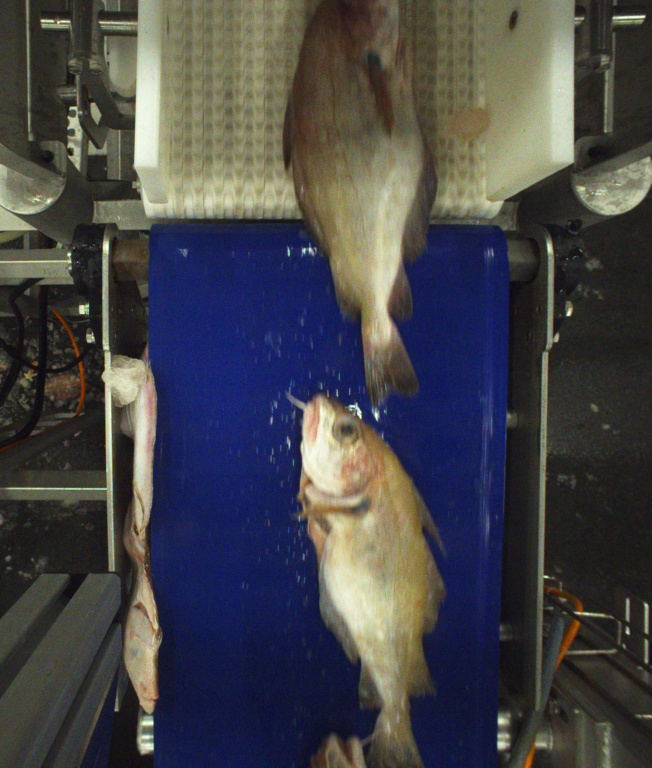BIB: (294, 727, 365, 768)
